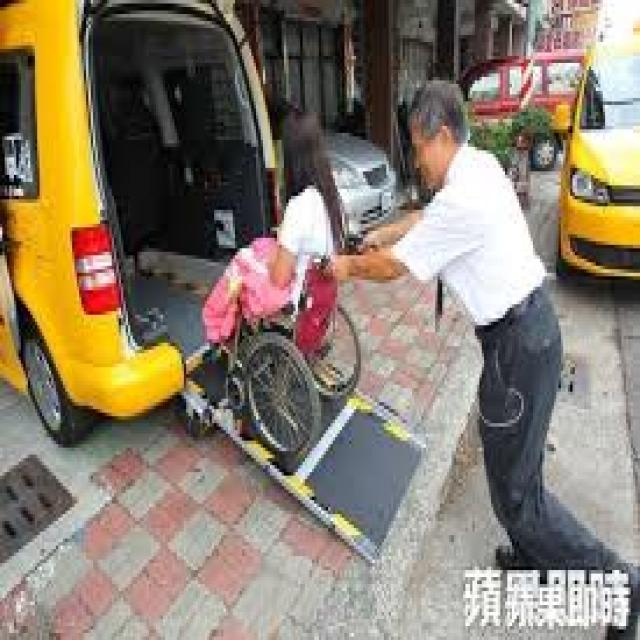wheelchairs: (207, 224, 375, 437)
